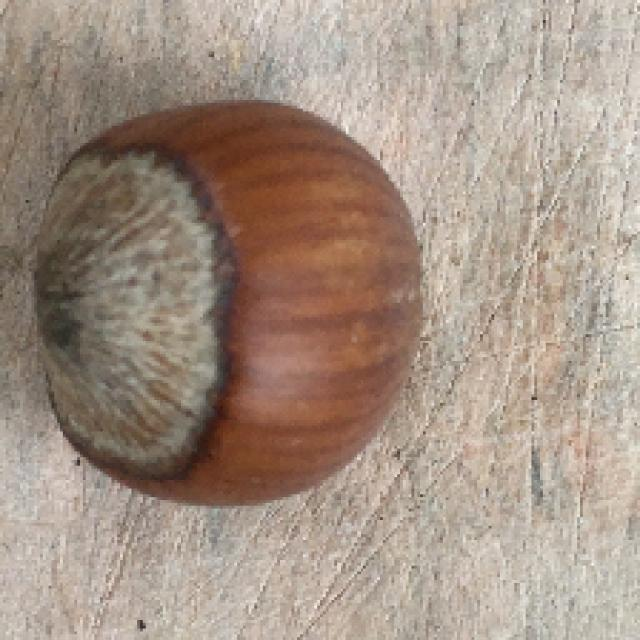qualityHazelnut: (30, 93, 433, 506)
